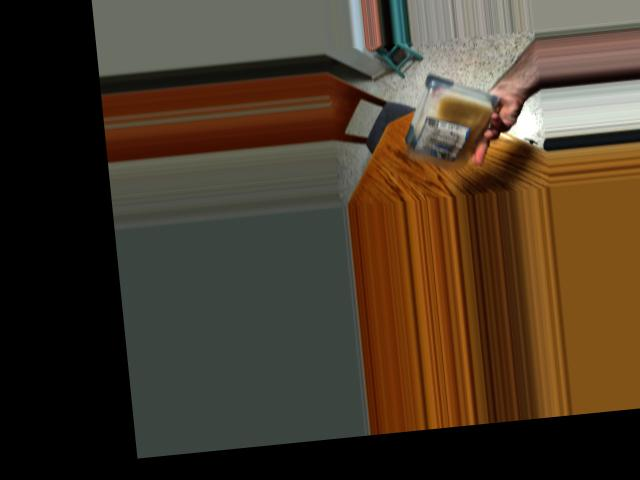cheese: (399, 70, 481, 168)
